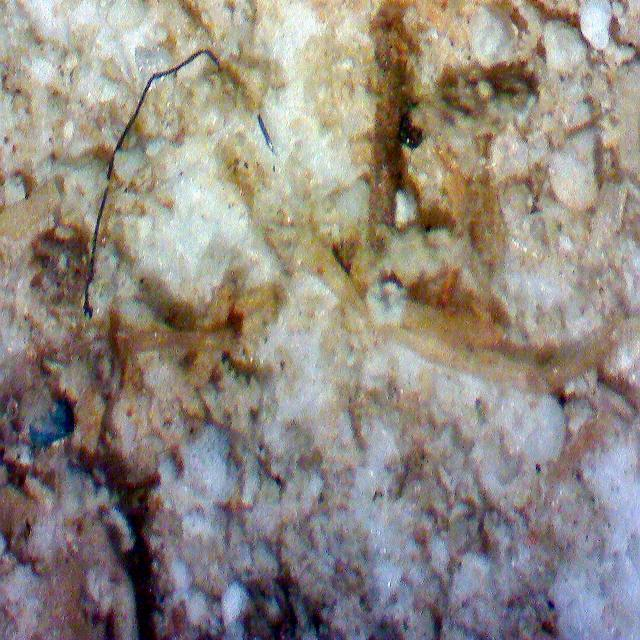microplastic: (84, 48, 273, 319), (20, 391, 80, 453)
